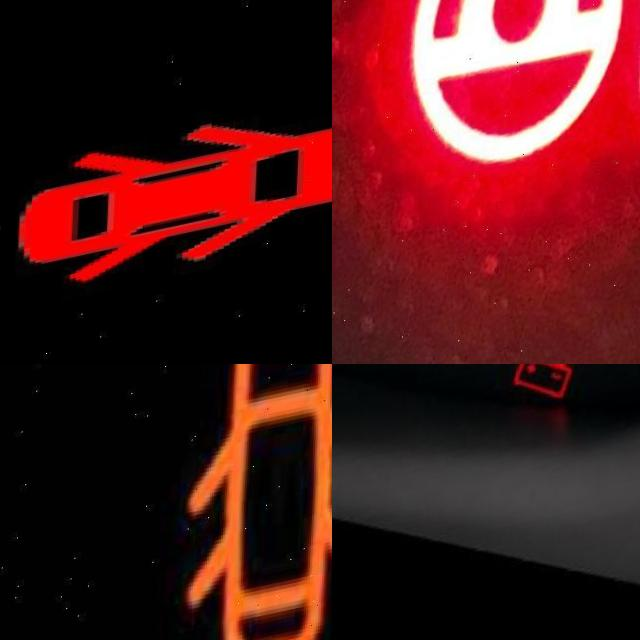Electronic Power Steering Warning: (408, 0, 640, 192)
